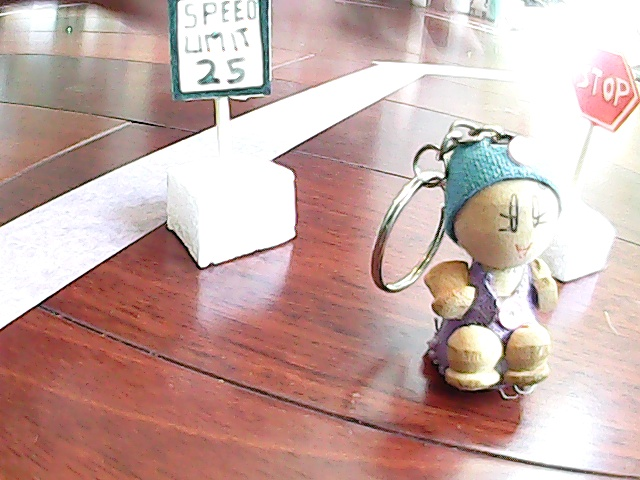pedestrain: (399, 112, 562, 410)
speed_25: (157, 1, 304, 260)
stop: (563, 48, 639, 285)
